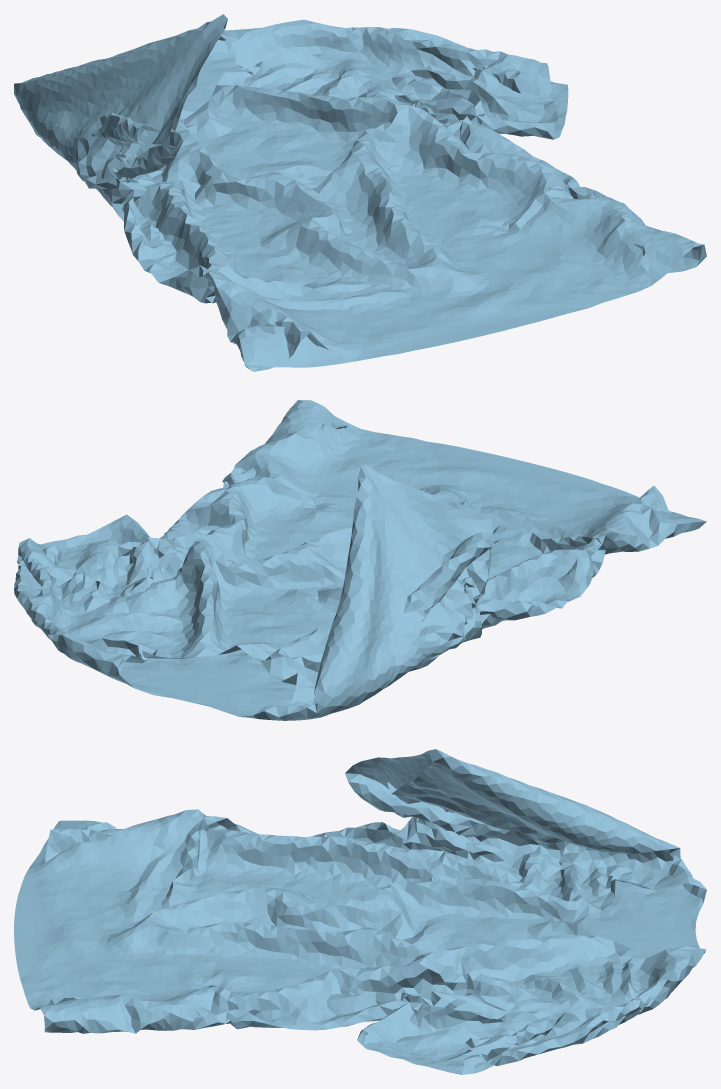
Rendered from frame_15.glb.
3 views of the same model, one above another, from view 1: azimuth 30°, elevation 25°; view 2: azimuth 150°, elevation 25°; view 3: azimuth 270°, elevation 25° (orthographic). The views are drawn at different scales.
Parts seen in each view (by area): view 1: frame_15.obj; view 2: frame_15.obj; view 3: frame_15.obj.
Boxes of the visible parts, bbox=[...] form: frame_15.obj: bbox=[14, 14, 706, 371]; frame_15.obj: bbox=[14, 400, 706, 720]; frame_15.obj: bbox=[14, 749, 706, 1074].
Size of the model in its own units: 1.47 by 0.4586 by 1.73.
